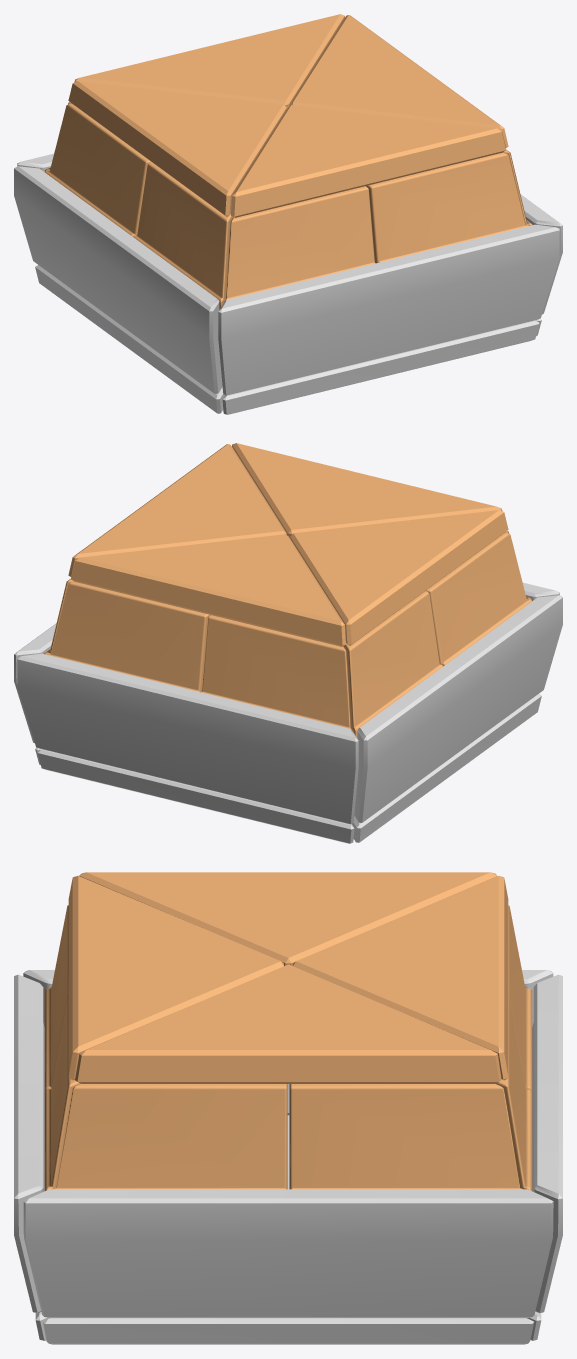
File: Level_Takoyaki_17.fbx
The picture shows the model from 3 angles, top to bottom: view 1: azimuth 30°, elevation 25°; view 2: azimuth 150°, elevation 25°; view 3: azimuth 270°, elevation 25°; orthographic projection. The views are drawn at different scales.
Parts seen in each view (by area): view 1: Takoyaki_50, Takoyaki_49, Takoyaki_07, Takoyaki_59, Takoyaki_54, Takoyaki_40, Takoyaki_58, Takoyaki_57, Takoyaki_06, Takoyaki_34, Takoyaki_05, Takoyaki_53 (+1 smaller); view 2: Takoyaki_48, Takoyaki_49, Takoyaki_58, Takoyaki_59, Takoyaki_41, Takoyaki_56, Takoyaki_07, Takoyaki_57, Takoyaki_34, Takoyaki_06, Takoyaki_52, Takoyaki_53 (+1 smaller); view 3: Takoyaki_33, Takoyaki_57, Takoyaki_39, Takoyaki_55, Takoyaki_07, Takoyaki_58, Takoyaki_59, Takoyaki_51, Takoyaki_48, Takoyaki_50, Takoyaki_41, Takoyaki_54 (+3 smaller).
Boxes of the visible parts, left/top/right/bottom form: Takoyaki_50: left=218, top=224, right=559, bottom=395; Takoyaki_49: left=14, top=166, right=222, bottom=393; Takoyaki_07: left=231, top=105, right=505, bottom=217; Takoyaki_59: left=68, top=81, right=286, bottom=216; Takoyaki_54: left=366, top=153, right=528, bottom=263; Takoyaki_40: left=224, top=186, right=375, bottom=302; Takoyaki_58: left=74, top=14, right=344, bottom=109; Takoyaki_57: left=290, top=15, right=508, bottom=148; Takoyaki_06: left=134, top=162, right=233, bottom=309; Takoyaki_34: left=44, top=104, right=150, bottom=237; Takoyaki_05: left=222, top=320, right=539, bottom=414; Takoyaki_53: left=35, top=265, right=224, bottom=413; Takoyaki_48: left=17, top=653, right=358, bottom=824; Takoyaki_49: left=354, top=595, right=562, bottom=823; Takoyaki_58: left=71, top=534, right=345, bottom=646; Takoyaki_59: left=290, top=510, right=508, bottom=645; Takoyaki_41: left=48, top=582, right=210, bottom=692; Takoyaki_56: left=201, top=615, right=352, bottom=731; Takoyaki_07: left=232, top=443, right=502, bottom=538; Takoyaki_57: left=68, top=444, right=286, bottom=576; Takoyaki_34: left=343, top=591, right=443, bottom=738; Takoyaki_06: left=426, top=533, right=532, bottom=665; Takoyaki_52: left=37, top=749, right=354, bottom=843; Takoyaki_53: left=352, top=694, right=541, bottom=842; Takoyaki_33: left=23, top=1189, right=553, bottom=1317; Takoyaki_57: left=75, top=964, right=501, bottom=1083; Takoyaki_39: left=54, top=1084, right=287, bottom=1189; Takoyaki_55: left=289, top=1084, right=522, bottom=1189; Takoyaki_07: left=68, top=876, right=283, bottom=1080; Takoyaki_58: left=293, top=876, right=508, bottom=1080; Takoyaki_59: left=79, top=872, right=497, bottom=965; Takoyaki_51: left=43, top=1318, right=534, bottom=1344; Takoyaki_48: left=532, top=974, right=562, bottom=1313; Takoyaki_50: left=14, top=974, right=44, bottom=1313; Takoyaki_41: left=496, top=997, right=532, bottom=1190; Takoyaki_54: left=44, top=997, right=80, bottom=1190.
Bounding box in the file's own units: 0.0539 × 0.0303 × 0.0539.
